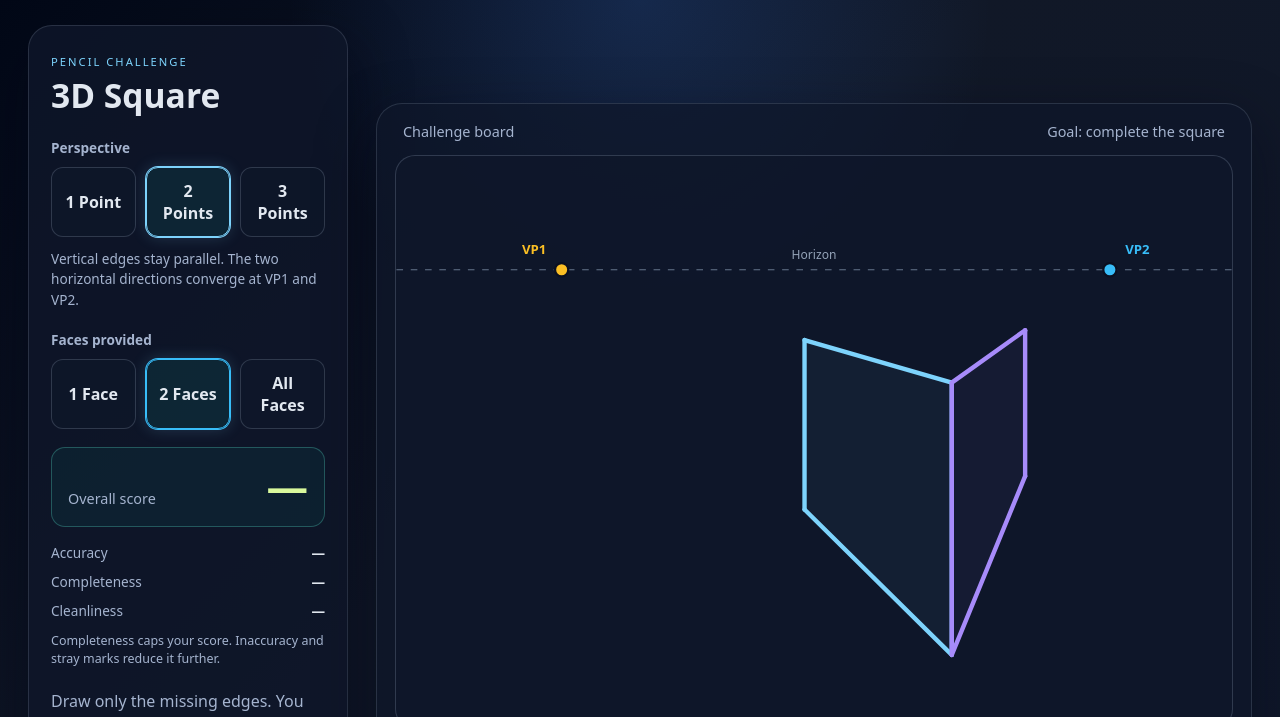
Test: tracing supplied faces in the reported one-point view earns no completion credit
Click the button with aria-label "1 vanishing point": (93, 202) [51,167,136,237]
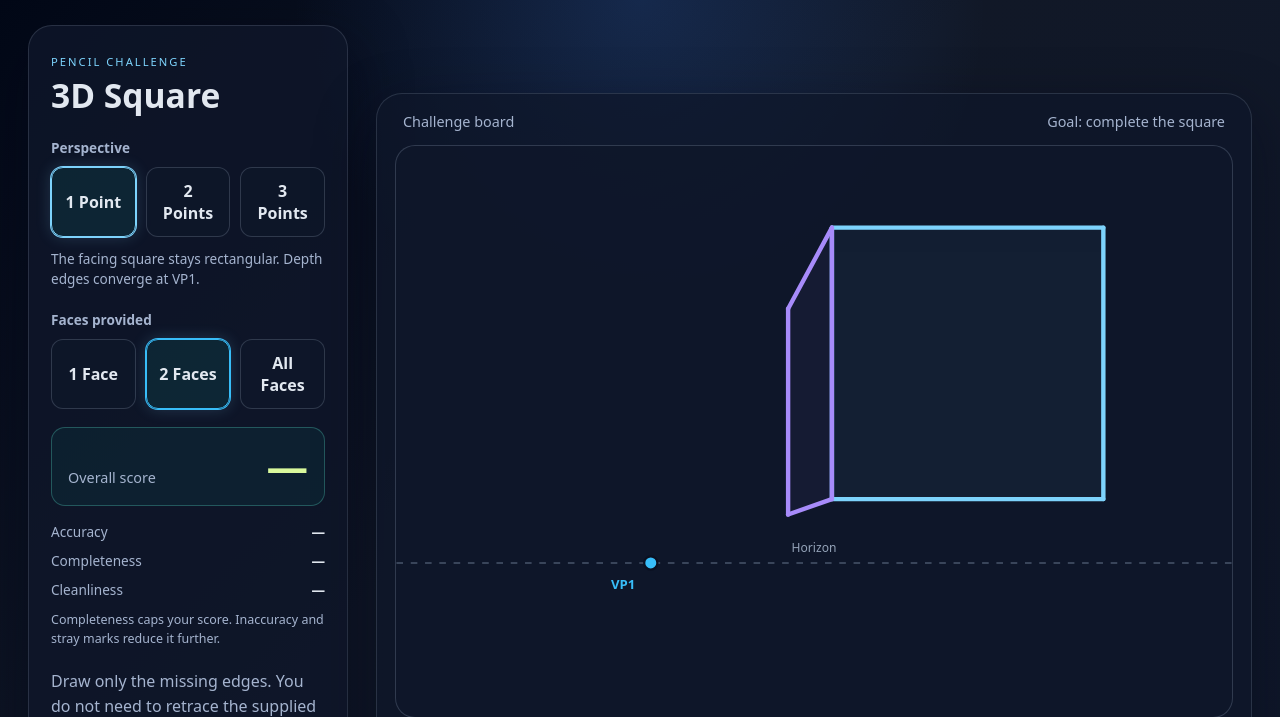
Press the mouse on the drawing named "Drawing canvas": (814, 432) [396,146,1232,716]
Press the mouse on the drawing named "Drawing canvas": (814, 432) [396,146,1232,716]
(page scrolled)
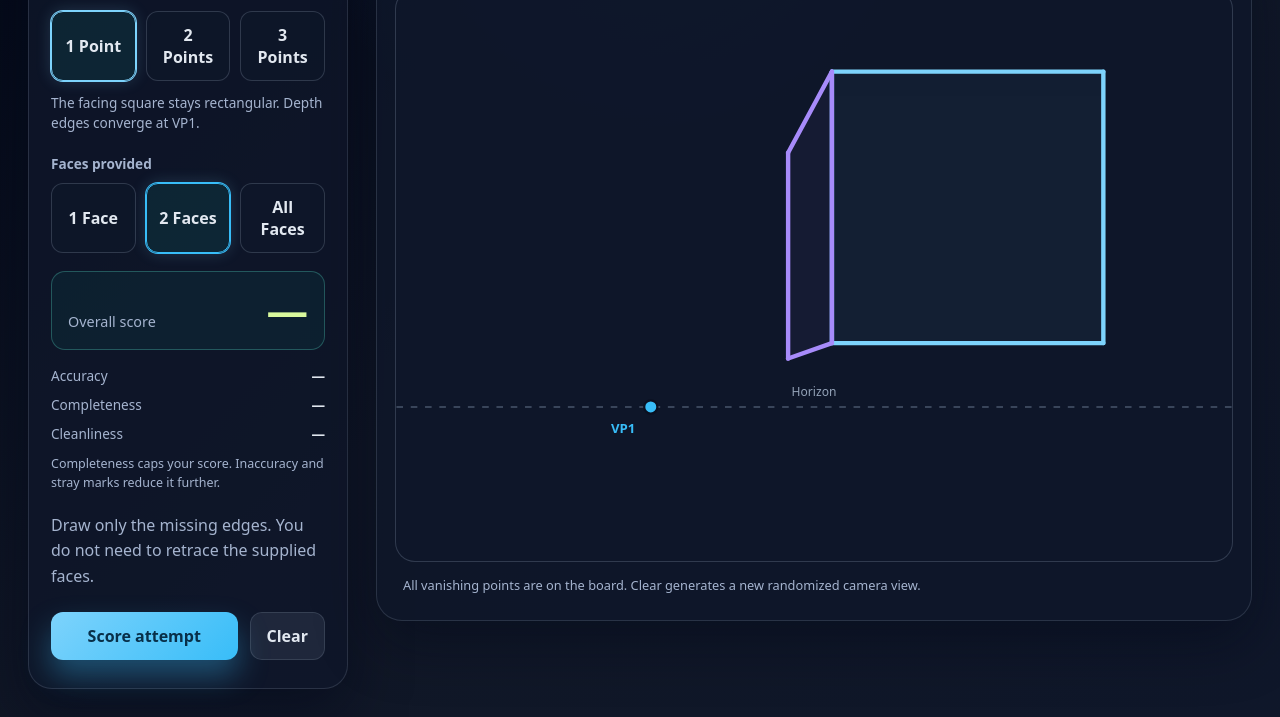
Click the button "Score attempt": (144, 636) [51,612,238,660]
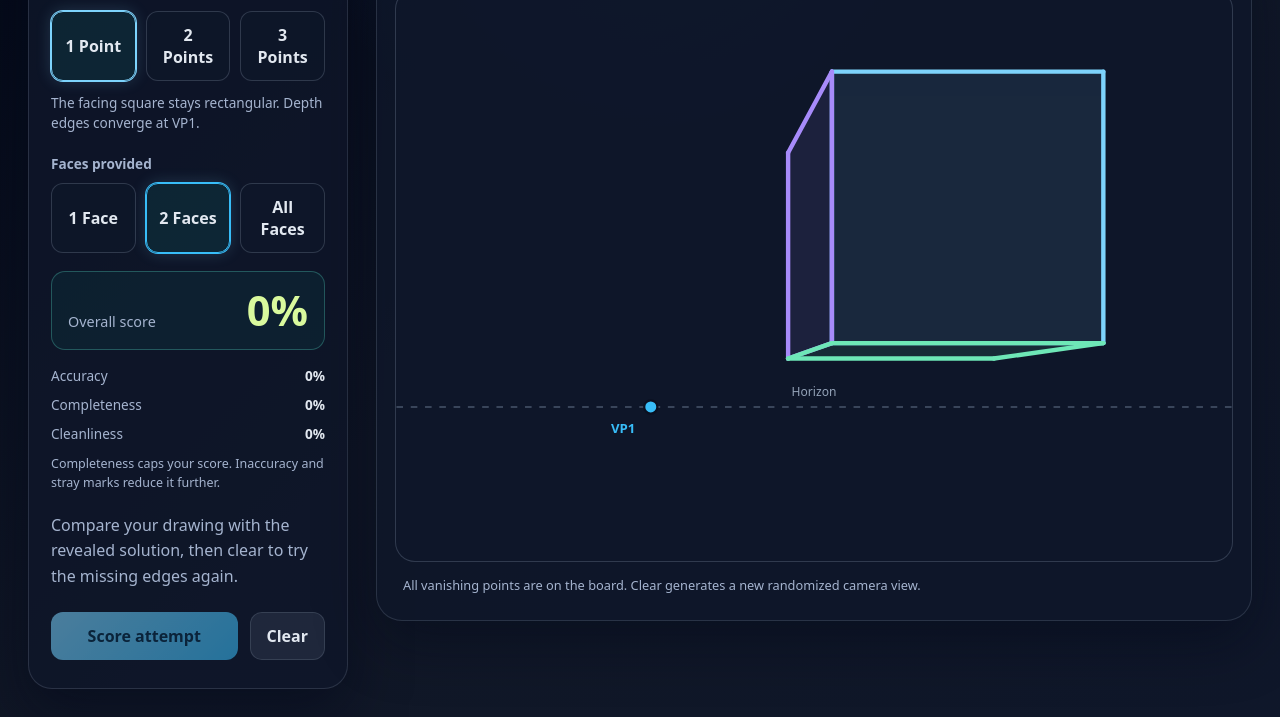
Check: the text named "Overall score" reads "0%", box [247,282,308,338]
